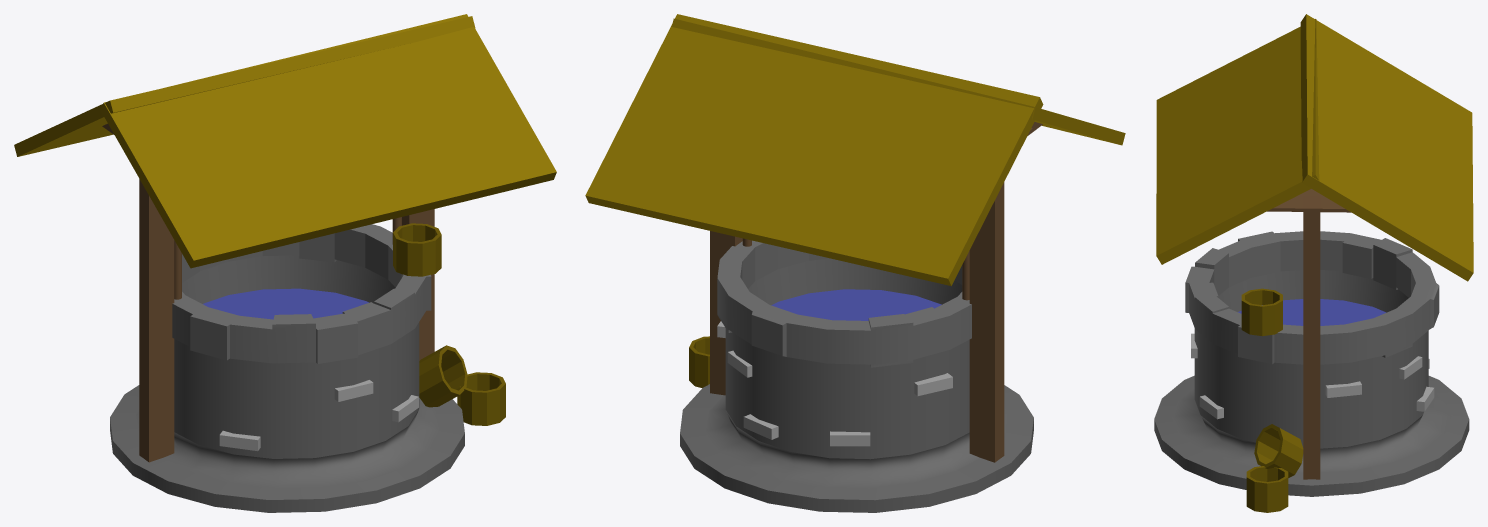
File: puit.fbx
3 renders of one model, left to right at view 1: azimuth 30°, elevation 25°; view 2: azimuth 150°, elevation 25°; view 3: azimuth 270°, elevation 25°, orthographic. The views are drawn at different scales.
Parts seen in each view (by area): view 1: polySurface27; view 2: polySurface27; view 3: polySurface27.
Boxes of the visible parts, x1=… form: polySurface27: x1=14, y1=14, x2=556, y2=512; polySurface27: x1=585, y1=14, x2=1125, y2=512; polySurface27: x1=1154, y1=14, x2=1473, y2=512.
Size of the model in its own units: 2.5 by 2.46 by 2.1.
